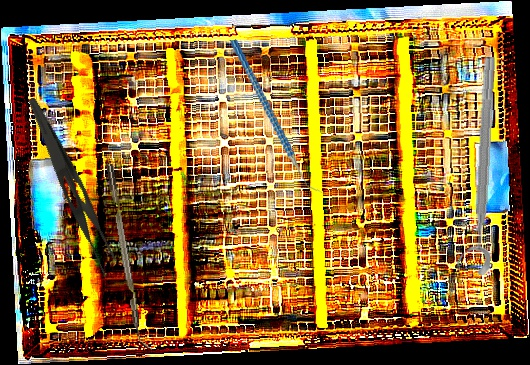Chopper: (229, 30, 323, 203), (106, 161, 152, 353)
Dressing Forceps: (8, 96, 130, 279)
Fixation Ring: (454, 55, 502, 276)
